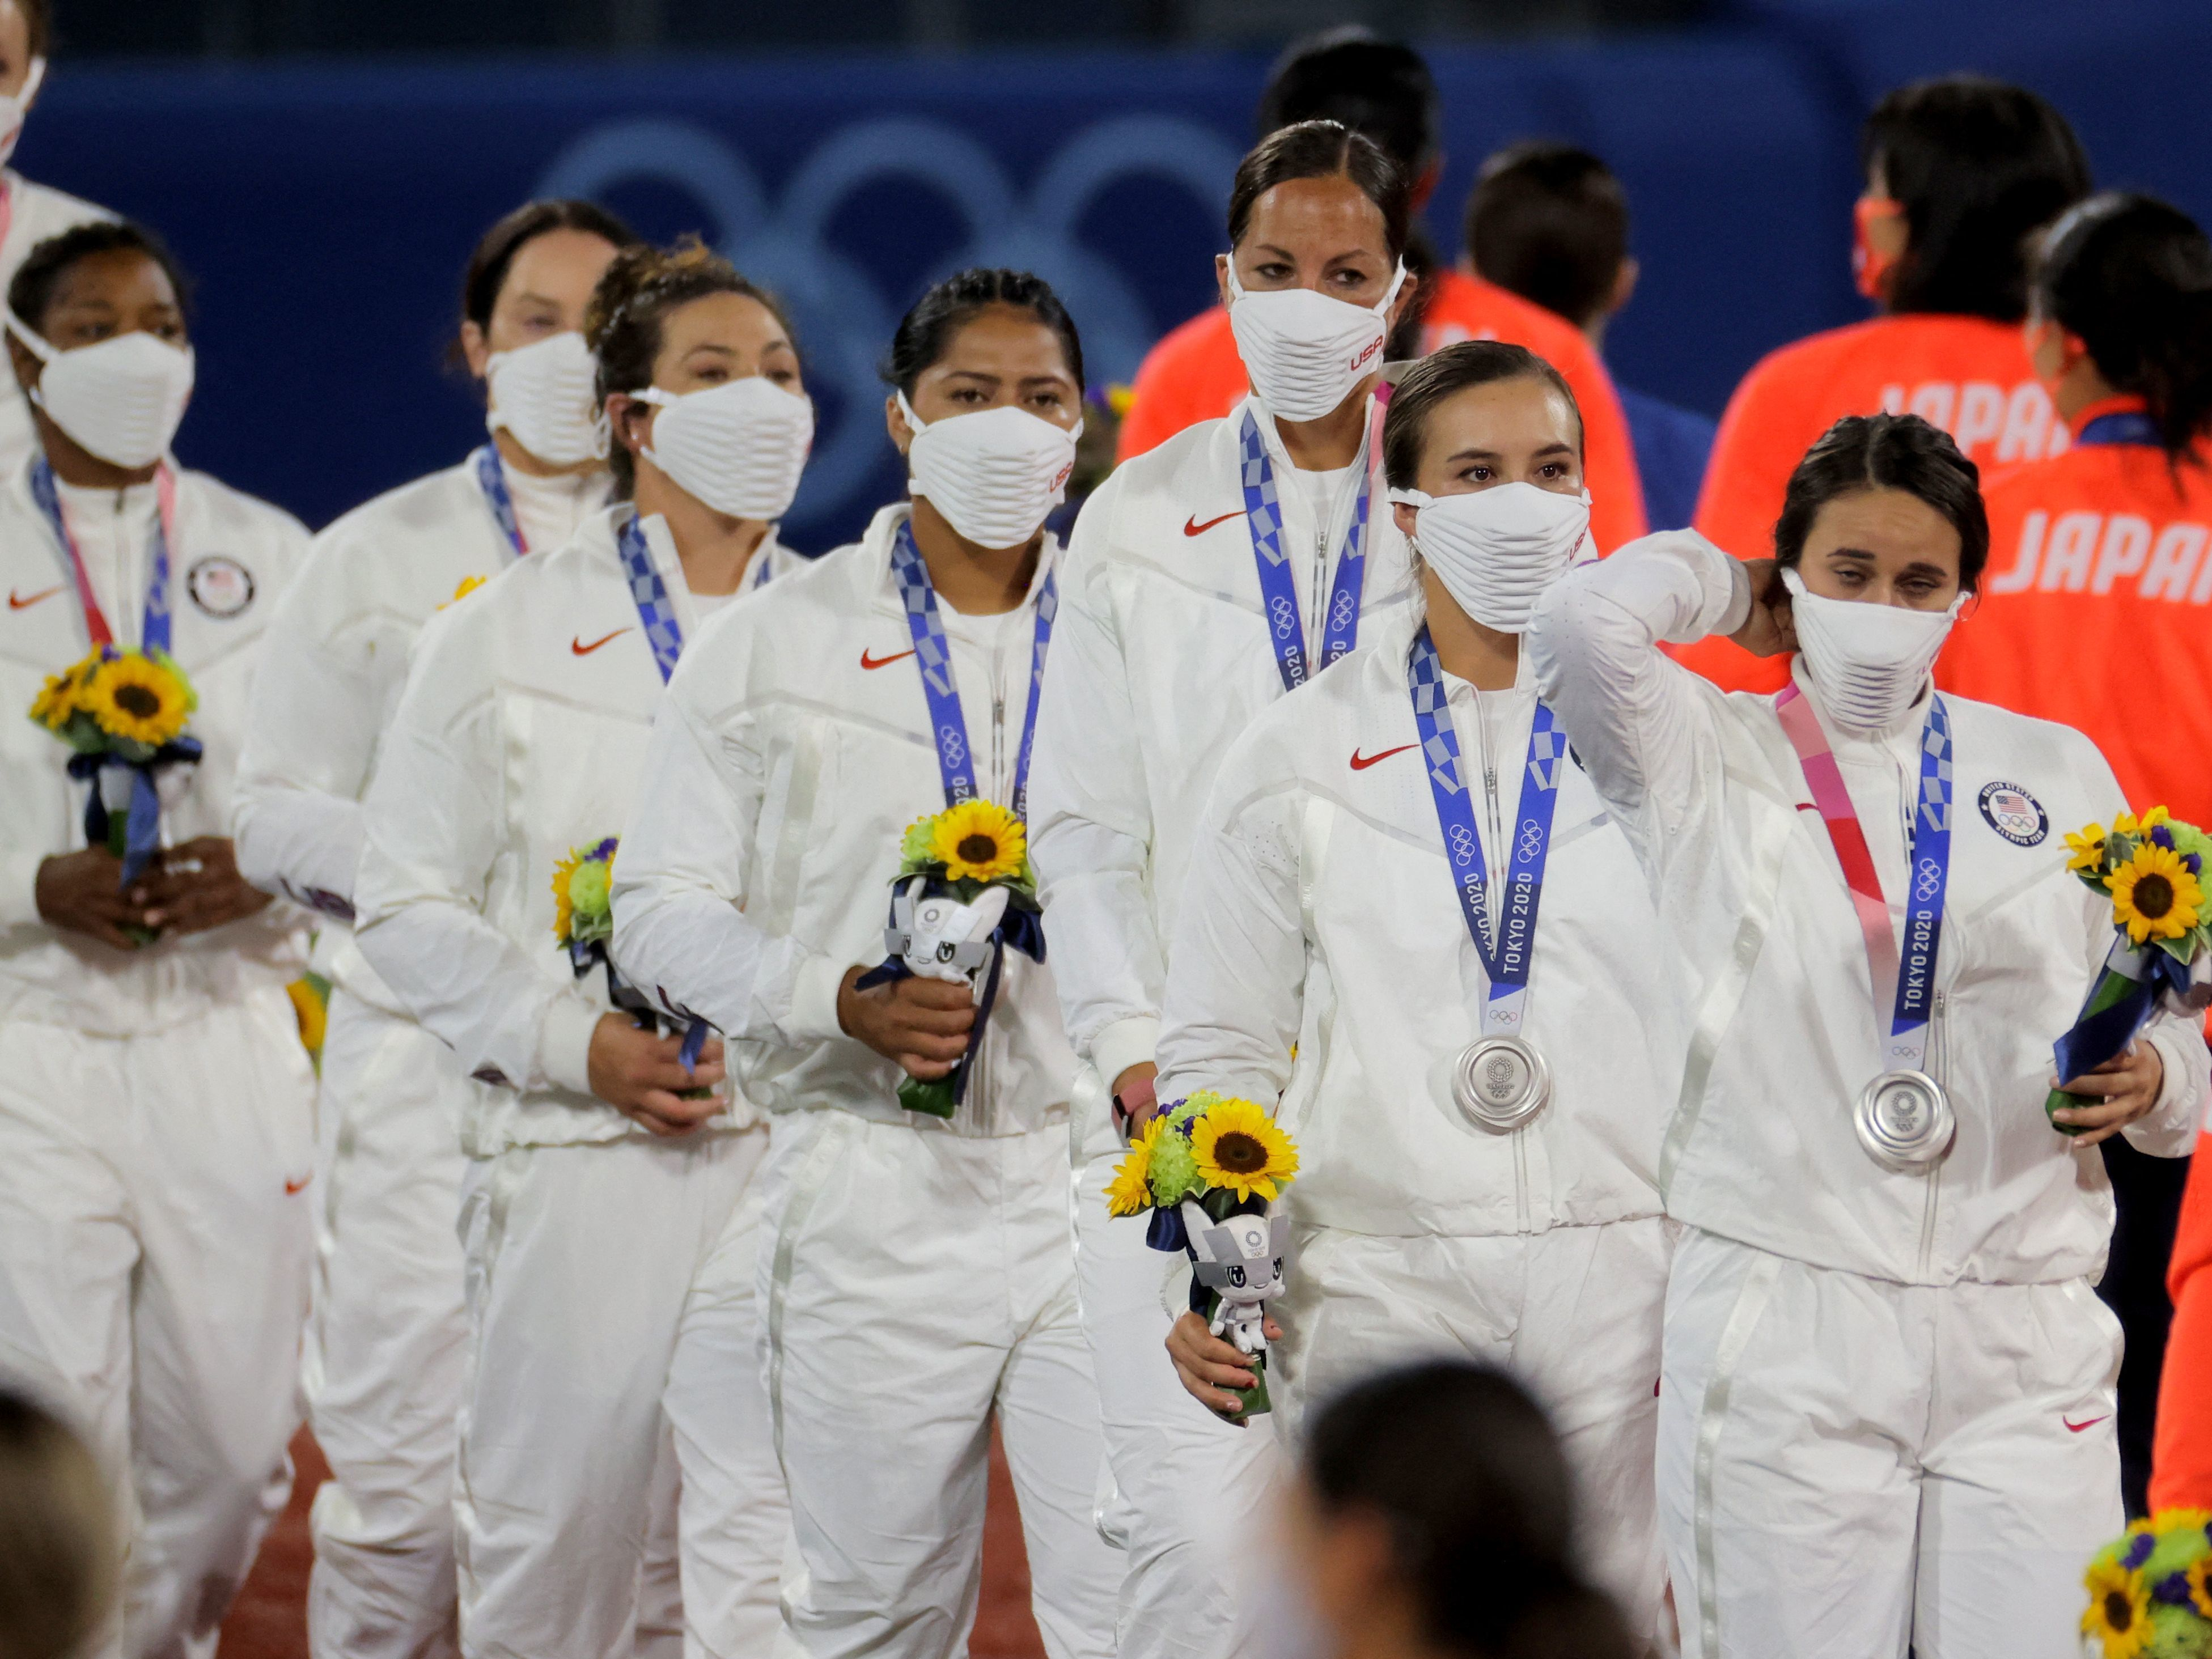with_mask: (635, 301, 816, 516), (1414, 389, 1580, 621), (904, 354, 1078, 531), (1239, 219, 1374, 443), (1806, 500, 1943, 707), (26, 282, 209, 429)
